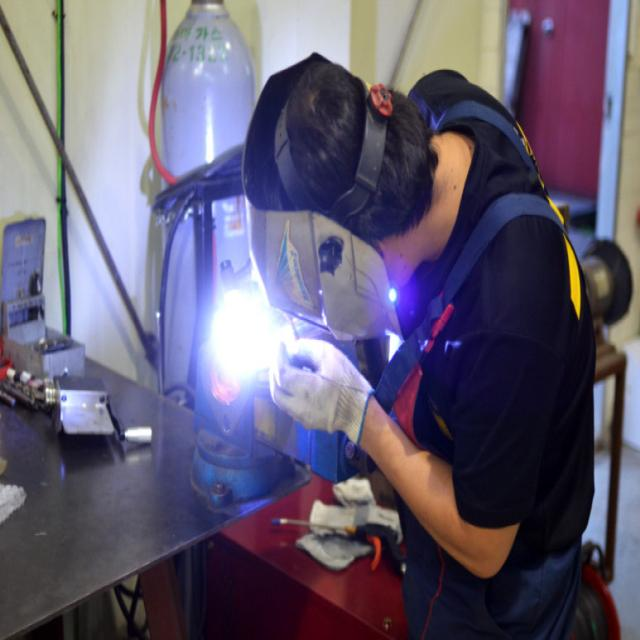welding: (217, 292, 280, 378)
